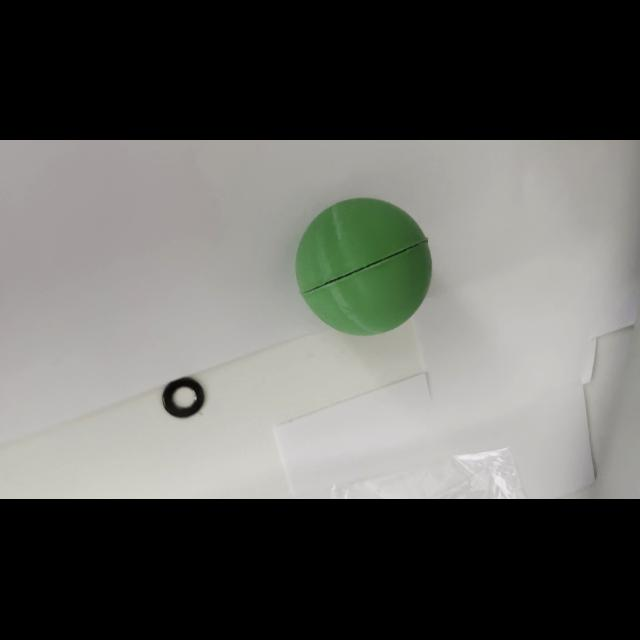objects: (293, 193, 435, 341)
